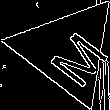M_NW: (31, 16, 103, 84)
